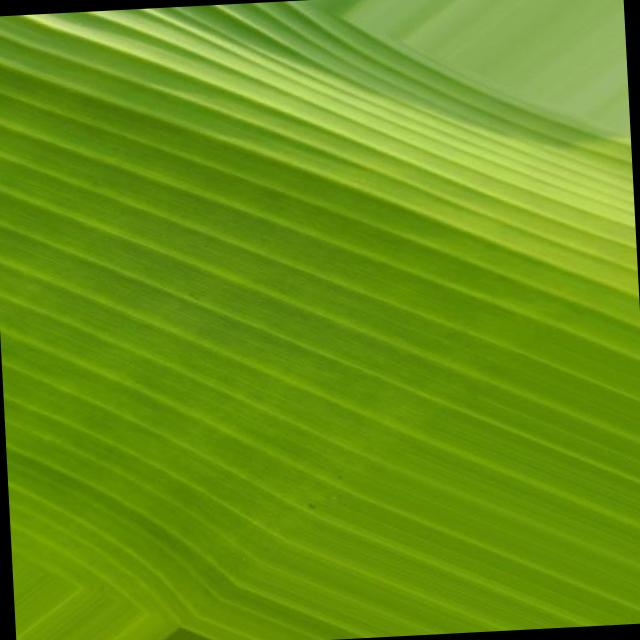Banana_Healthy: (44, 84, 598, 576)
